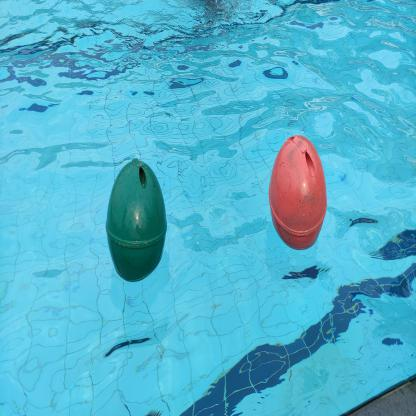green_buoy: (104, 157, 168, 287)
red_buoy: (268, 132, 328, 254)
